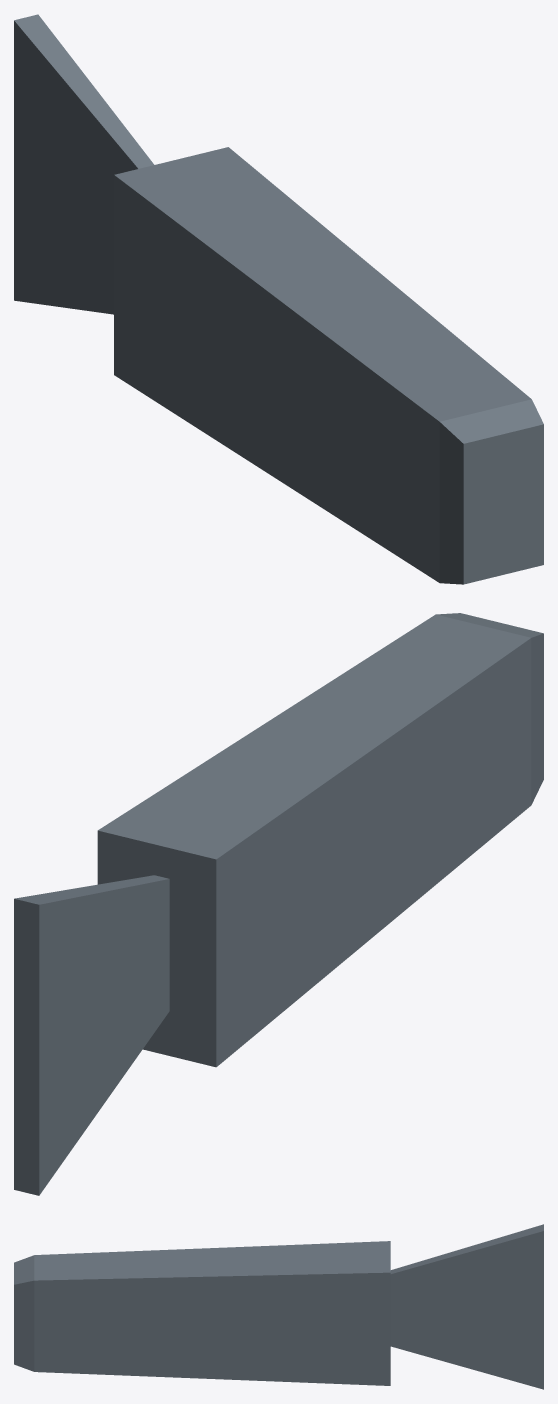
File: fish_1.glb
3 views of the same model, one above another, from view 1: azimuth 30°, elevation 25°; view 2: azimuth 150°, elevation 25°; view 3: azimuth 270°, elevation 25° (orthographic). The views are drawn at different scales.
Visible parts, largest first — view 1: Fish_1; view 2: Fish_1; view 3: Fish_1.
Part boxes in pixels (box(x1,y1,x2,y2)): Fish_1: box(14, 14, 543, 584); Fish_1: box(14, 613, 543, 1195); Fish_1: box(14, 1224, 543, 1389).
Bounding box in the file's own units: 0.0117 × 0.0273 × 0.0826.
